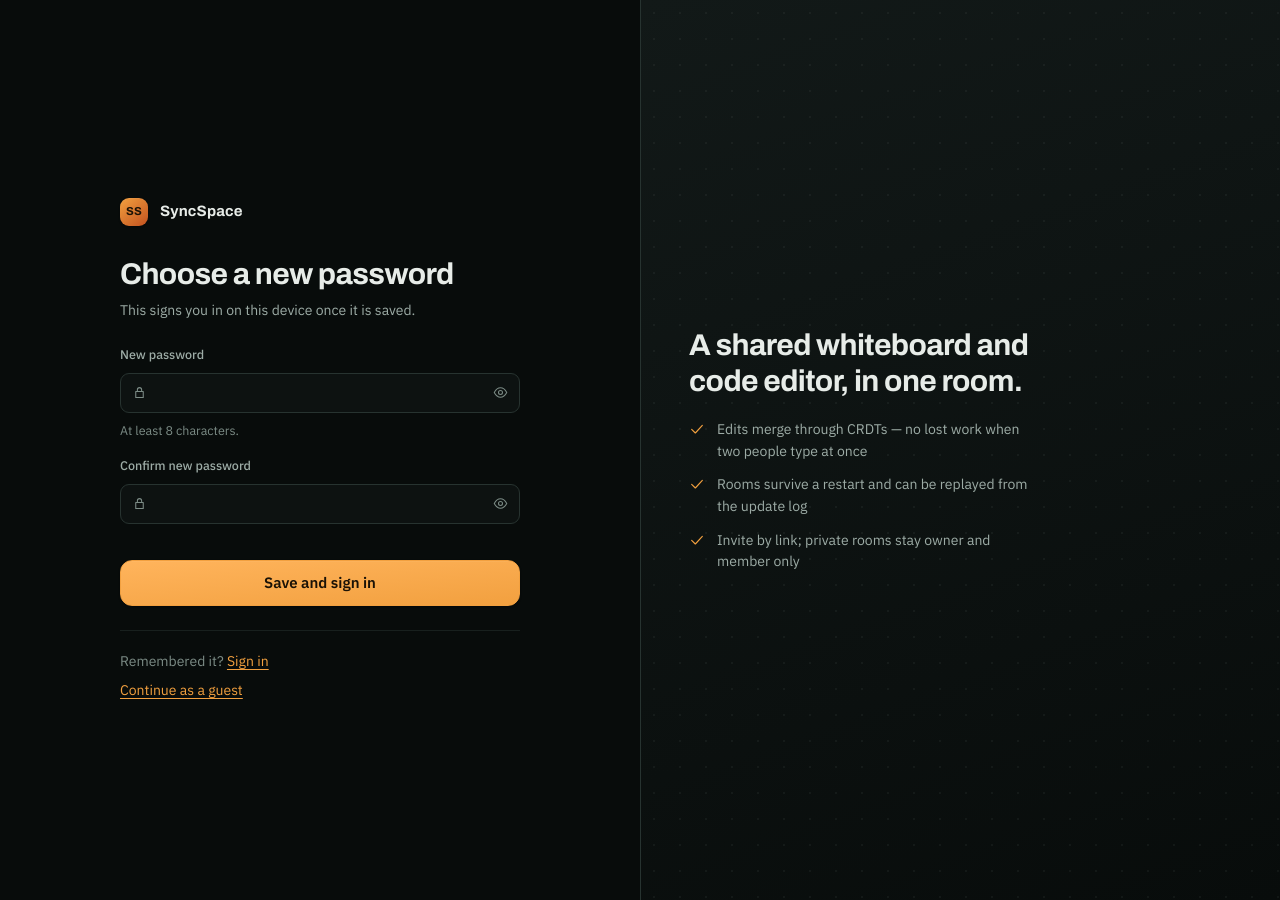
Scenario: ResetPassword › refuses to submit a password shorter than the server would accept
Type "short" into the password field labelled "New password" at (320, 393), box [120,373,520,413]
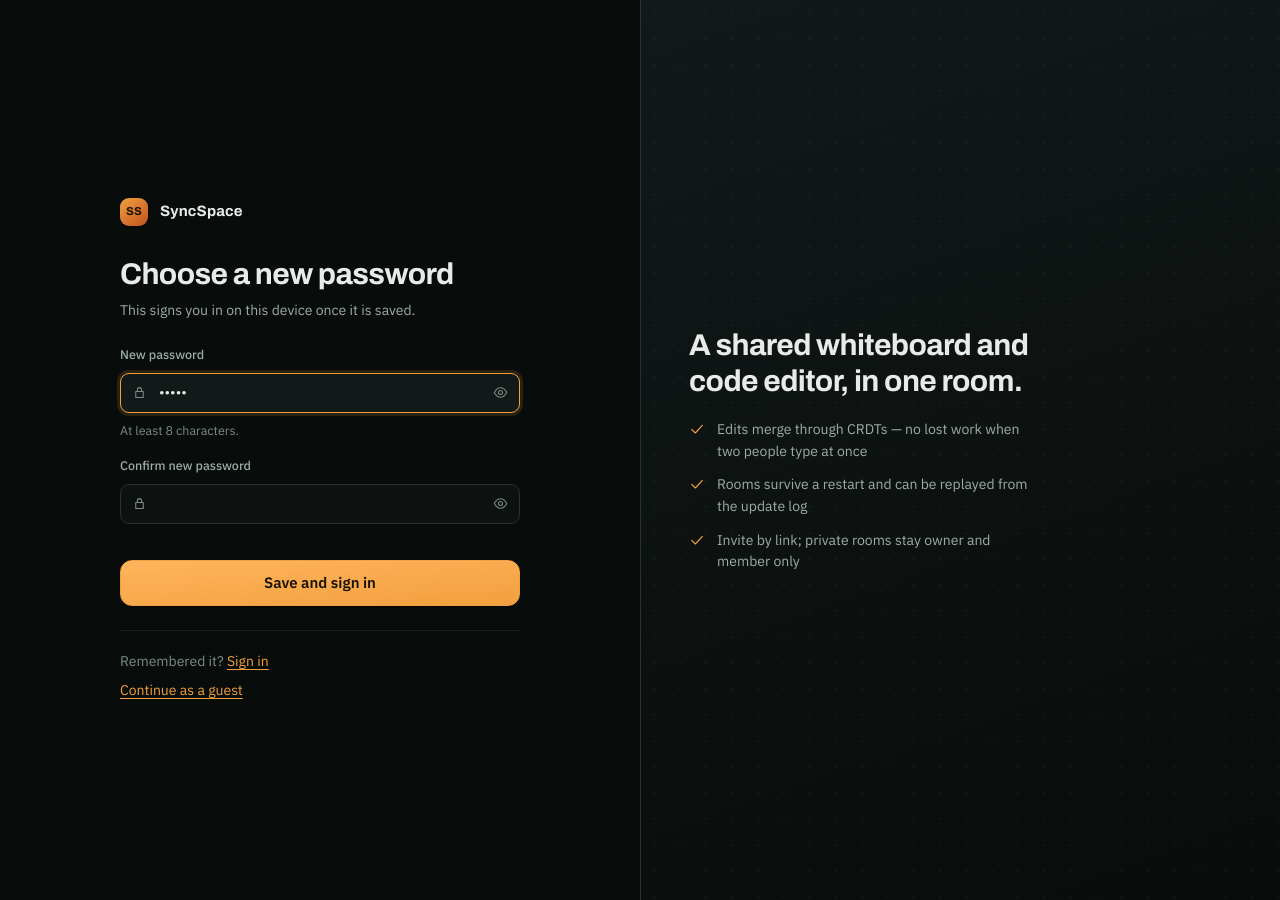
Type "short" into the password field labelled "Confirm new password" at (320, 504), box [120,484,520,524]
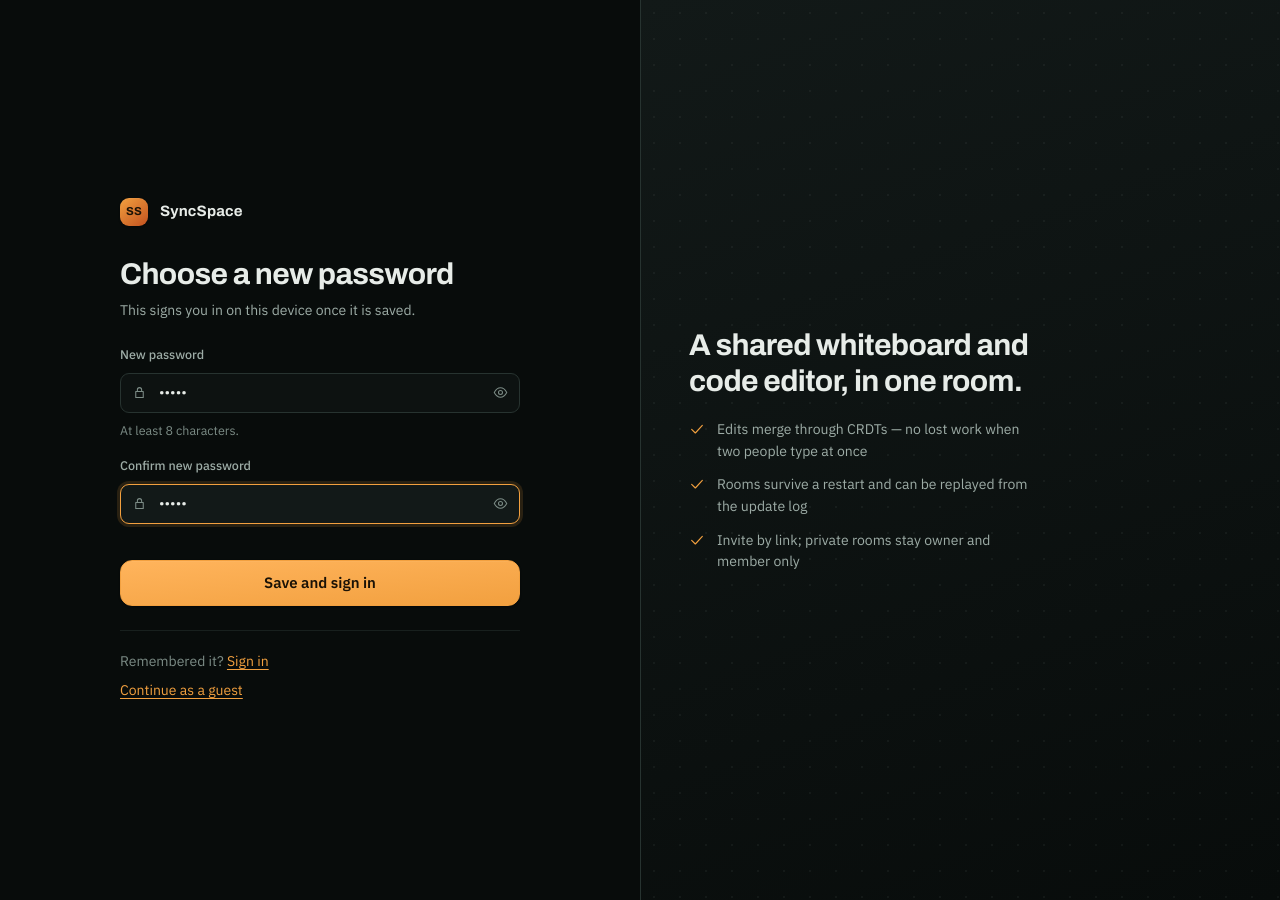
Click the button "Save and sign in" at (320, 582), box [120,560,520,606]
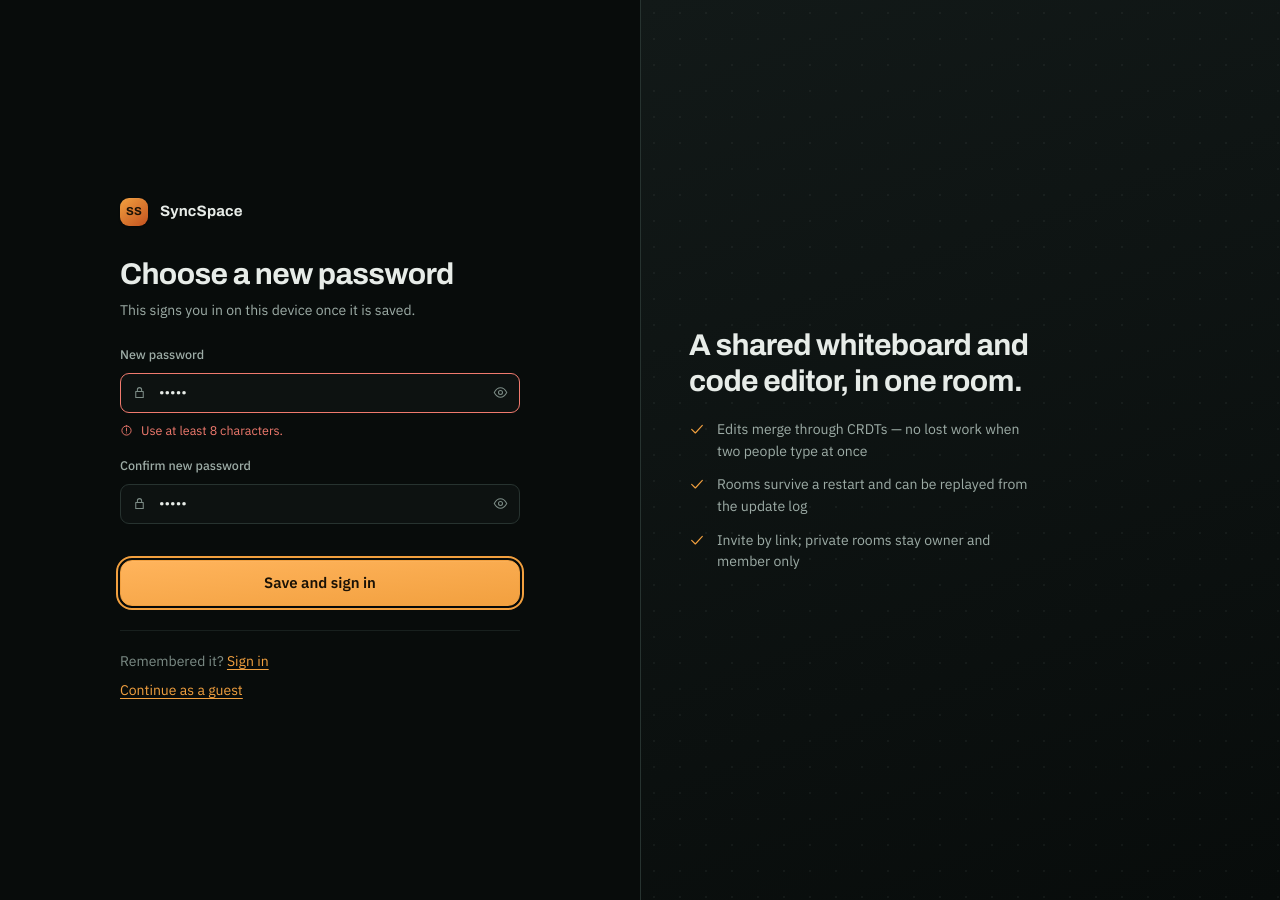
Now the text "Use at least 8 characters." is shown, box [120,422,283,438]
